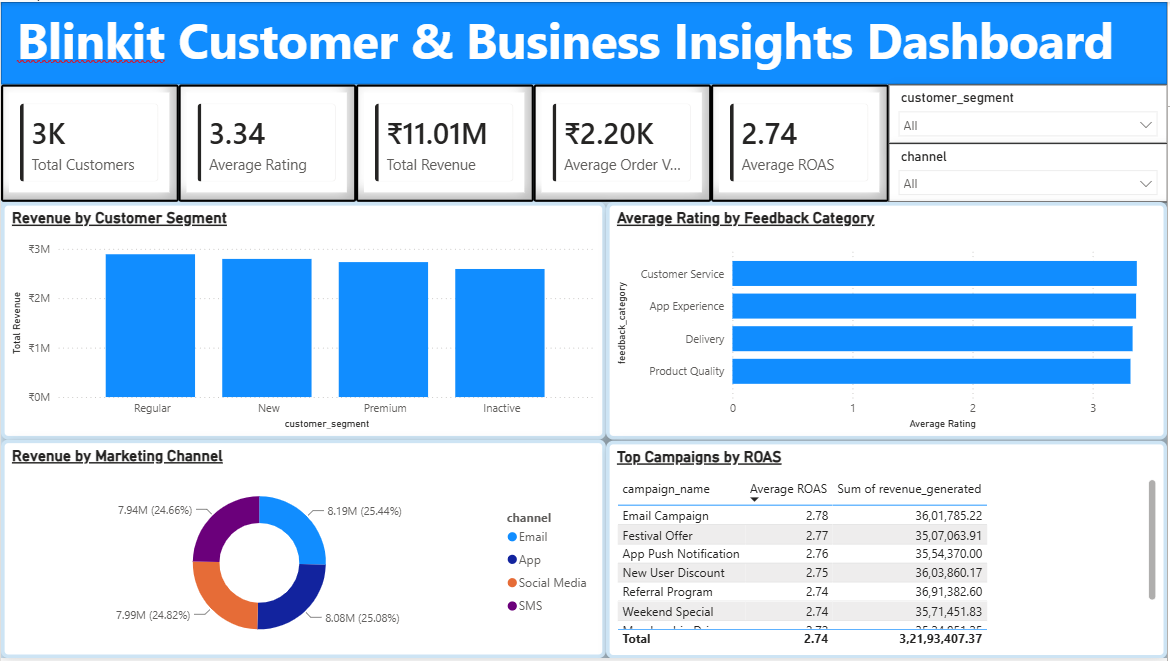

The dashboard page shown, as its layout file describes it:
{"tool":"powerbi","page":{"name":"Blinkit Customer & Business Insights Dashboard","canvas":[1280,720],"ordinal":2},"visuals":[{"type":"shape","box":[0,0,1280.3,90.6],"z":0},{"type":"textbox","box":[12.3,0,1267.9,90.6],"z":1000},{"type":"cardVisual","fields":{"Data":["Measures (2).Total Customers"]},"box":[0,90.6,194.9,129],"z":2000},{"type":"cardVisual","fields":{"Data":["Measures (2).Average Rating"]},"box":[194.9,90.6,194.9,129],"z":3000},{"type":"cardVisual","fields":{"Data":["Measures (2).Total Revenue"]},"box":[389.7,90.6,194.9,129],"z":4000},{"type":"cardVisual","fields":{"Data":["Measures (2).Average Order Value"]},"box":[584.6,90.6,194.9,129],"z":5000},{"type":"cardVisual","fields":{"Data":["Measures (2).Average ROAS"]},"box":[779.4,90.6,194.9,129],"z":6000},{"type":"slicer","fields":{"Values":["transformed_customers.customer_segment"]},"box":[974.3,90.6,306,64.5],"z":7000},{"type":"slicer","fields":{"Values":["transformed_marketing.channel"]},"box":[974.3,155.1,306,64.5],"z":8000},{"type":"clusteredColumnChart","title":"Revenue by Customer Segment","fields":{"Category":["transformed_customers.customer_segment"],"Y":["Measures (2).Total Revenue"]},"box":[0,219.6,664.2,260.7],"z":9000},{"type":"clusteredBarChart","title":"Average Rating by Feedback Category","fields":{"Category":["transformed_feedback.feedback_category"],"Y":["Measures (2).Average Rating"]},"box":[664.2,219.6,616.1,260.7],"z":10000},{"type":"donutChart","title":"Revenue by Marketing Channel","fields":{"Category":["transformed_marketing.channel"],"Y":["Sum(transformed_marketing.revenue_generated)"]},"box":[0,480.3,664.2,240.1],"z":11000},{"type":"tableEx","title":"Top Campaigns by ROAS","fields":{"Values":["transformed_marketing.campaign_name","Measures (2).Average ROAS","Sum(transformed_marketing.revenue_generated)"]},"box":[664,481,616,239],"z":12000}]}

Visuals, with their boxes in screenshot pixels (x1, y1, x2, y2), scaled from the page's 1280x720 canvas onto the 1170x661 screenshot:
shape: bbox=[0, 0, 1169, 83]
textbox: bbox=[11, 0, 1169, 83]
cardVisual - Measures (2).Total Customers: bbox=[0, 83, 178, 202]
cardVisual - Measures (2).Average Rating: bbox=[178, 83, 356, 202]
cardVisual - Measures (2).Total Revenue: bbox=[356, 83, 534, 202]
cardVisual - Measures (2).Average Order Value: bbox=[534, 83, 713, 202]
cardVisual - Measures (2).Average ROAS: bbox=[712, 83, 891, 202]
slicer - transformed_customers.customer_segment: bbox=[891, 83, 1169, 142]
slicer - transformed_marketing.channel: bbox=[891, 142, 1169, 202]
"Revenue by Customer Segment" clusteredColumnChart: bbox=[0, 202, 607, 441]
"Average Rating by Feedback Category" clusteredBarChart: bbox=[607, 202, 1169, 441]
"Revenue by Marketing Channel" donutChart: bbox=[0, 441, 607, 660]
"Top Campaigns by ROAS" tableEx: bbox=[607, 442, 1169, 660]
